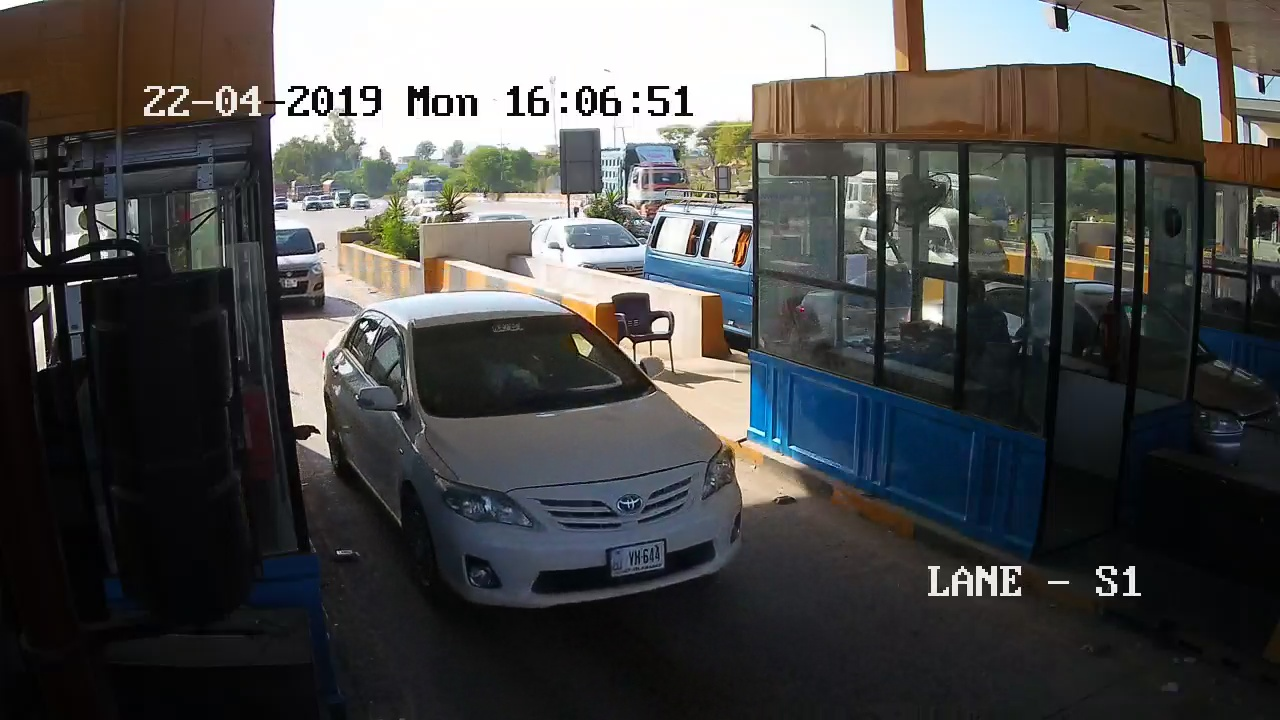Number Plate (Car): (606, 541, 673, 577)
